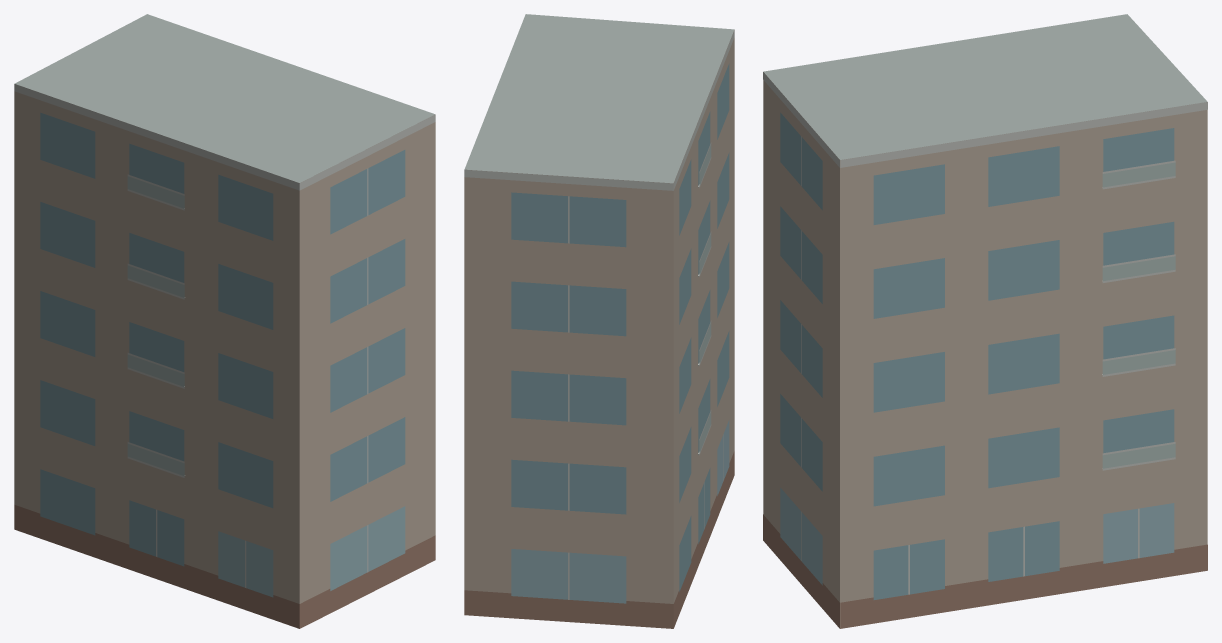
File: survey-upis-32857745.glb
The picture shows the model from 3 angles, left to right: view 1: azimuth 30°, elevation 25°; view 2: azimuth 150°, elevation 25°; view 3: azimuth 270°, elevation 25°; orthographic projection. The views are drawn at different scales.
Parts seen in each view (by area): view 1: survey-upis-32857745.tmp; view 2: survey-upis-32857745.tmp; view 3: survey-upis-32857745.tmp.
Boxes of the visible parts, <box> form: survey-upis-32857745.tmp: <box>14,14,435,628</box>; survey-upis-32857745.tmp: <box>464,14,734,628</box>; survey-upis-32857745.tmp: <box>763,14,1207,628</box>.
Size of the model in its own units: 9.66 by 14.45 by 12.43.
